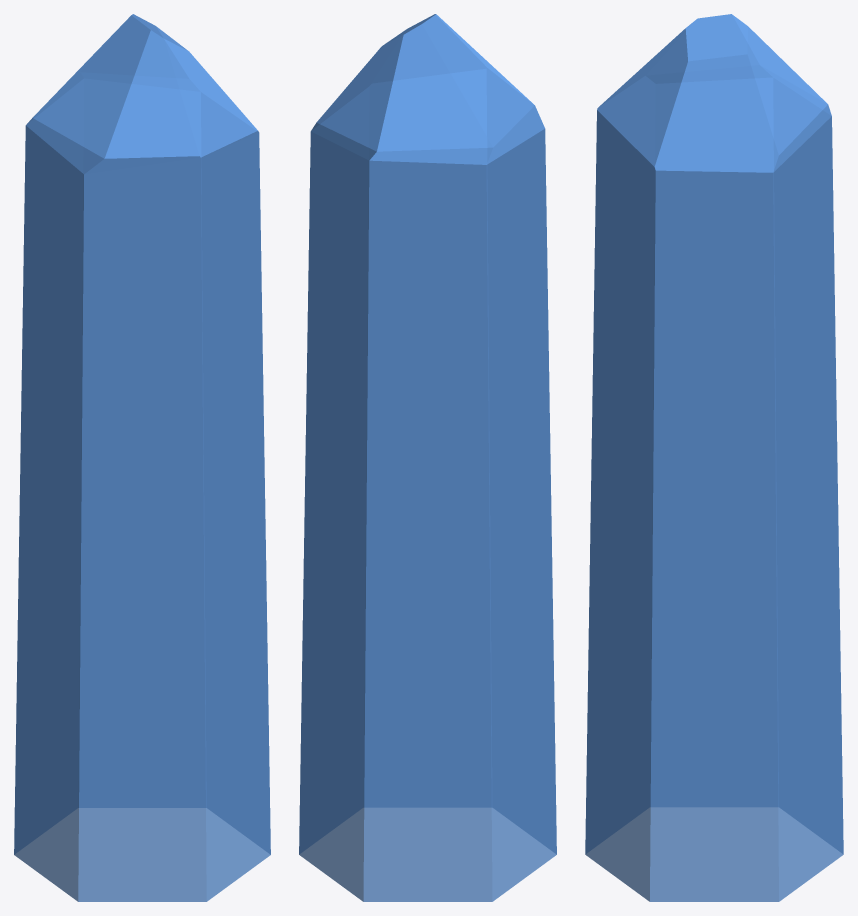
Rendered from Crystal_m_02.fbx.
The picture shows the model from 3 angles, left to right: view 1: azimuth 30°, elevation 25°; view 2: azimuth 150°, elevation 25°; view 3: azimuth 270°, elevation 25°; orthographic projection.
Visible parts, largest first — view 1: Crystal_m_02; view 2: Crystal_m_02; view 3: Crystal_m_02.
Boxes of the visible parts, x1,y1,x2,y2 form: Crystal_m_02: [14, 14, 270, 901]; Crystal_m_02: [299, 14, 556, 901]; Crystal_m_02: [585, 14, 843, 901].
Bounding box in the file's own units: 42.54 × 176 × 49.13.
